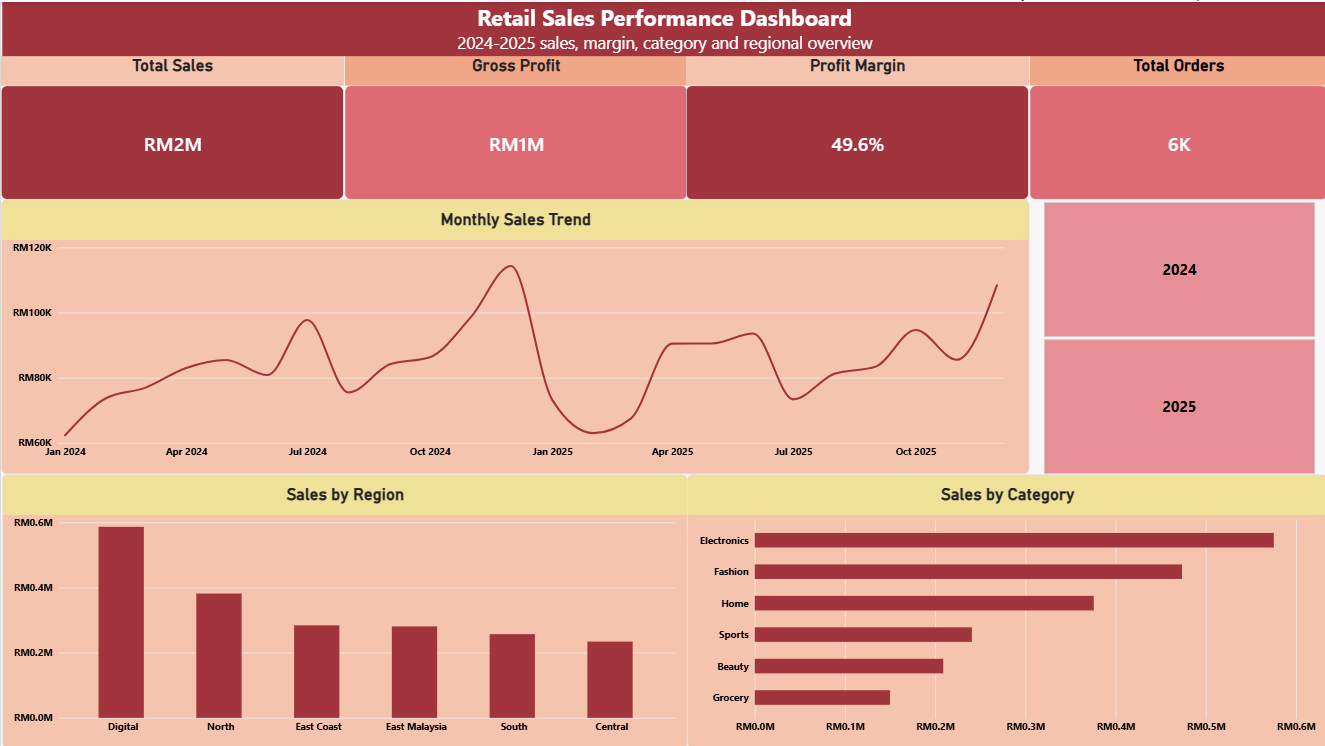

This screenshot's page, from the dashboard's own definition file:
{"tool":"powerbi","page":{"name":"Executive Overview","canvas":[1920,1080],"ordinal":0},"visuals":[{"type":"cardVisual","title":"Total Sales","fields":{"Data":["factSales.M_Total Sales"]},"box":[0,78.1,496.9,208.3],"z":0},{"type":"cardVisual","title":"Gross Profit","fields":{"Data":["factSales.M_Gross Profit"]},"box":[496.9,78.1,496.9,208.3],"z":1000},{"type":"cardVisual","title":"Profit Margin","fields":{"Data":["factSales.M_Profit Margin"]},"box":[991.7,78.1,496.9,208.3],"z":2000},{"type":"cardVisual","title":"Total Orders","fields":{"Data":["factSales.M_Total Orders"]},"box":[1488.6,78.1,431.8,208.3],"z":3000},{"type":"lineChart","title":"Monthly Sales Trend","fields":{"Y":["factSales.M_Total Sales"],"Category":["dimDate.Month Start.Variation.Date Hierarchy.Year","dimDate.Month Start.Variation.Date Hierarchy.Quarter","dimDate.Month Start.Variation.Date Hierarchy.Month","dimDate.Month Start.Variation.Date Hierarchy.Day"]},"box":[0,286.2,1488.9,397.3],"z":4000},{"type":"barChart","title":"Sales by Category","fields":{"Category":["dimProduct.Category"],"Y":["factSales.M_Total Sales"]},"box":[993.3,683.6,926.6,397.1],"z":5000},{"type":"clusteredColumnChart","title":"Sales by Region","fields":{"Category":["dimStore.Region"],"Y":["factSales.M_Total Sales"]},"box":[2.2,683.5,991.7,397.1],"z":6000},{"type":"slicer","fields":{"Values":["dimDate.Year"]},"box":[1488.9,288.4,431.5,397.3],"z":7000},{"type":"textbox","box":[2.2,0,1918.3,78.1],"z":8000}]}

Visuals, with their boxes in screenshot pixels (x1, y1, x2, y2), scaled from the page's 1920x1080 canvas onto the 1325x746 screenshot:
"Total Sales" cardVisual: (0,54,343,198)
"Gross Profit" cardVisual: (343,54,686,198)
"Profit Margin" cardVisual: (684,54,1027,198)
"Total Orders" cardVisual: (1027,54,1324,198)
"Monthly Sales Trend" lineChart: (0,198,1027,472)
"Sales by Category" barChart: (685,472,1324,745)
"Sales by Region" clusteredColumnChart: (2,472,686,745)
slicer - dimDate.Year: (1027,199,1324,474)
textbox: (2,0,1324,54)
